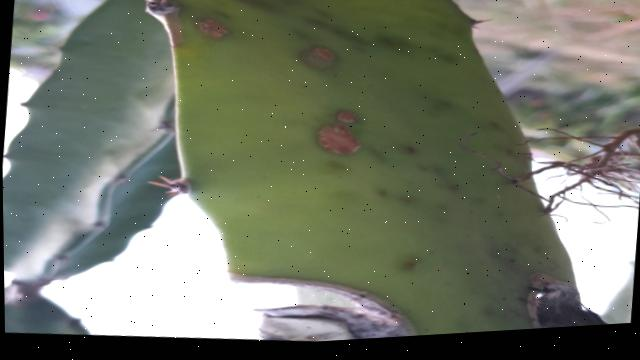stemcanker: (310, 106, 367, 162), (193, 12, 232, 44), (302, 43, 346, 70)
